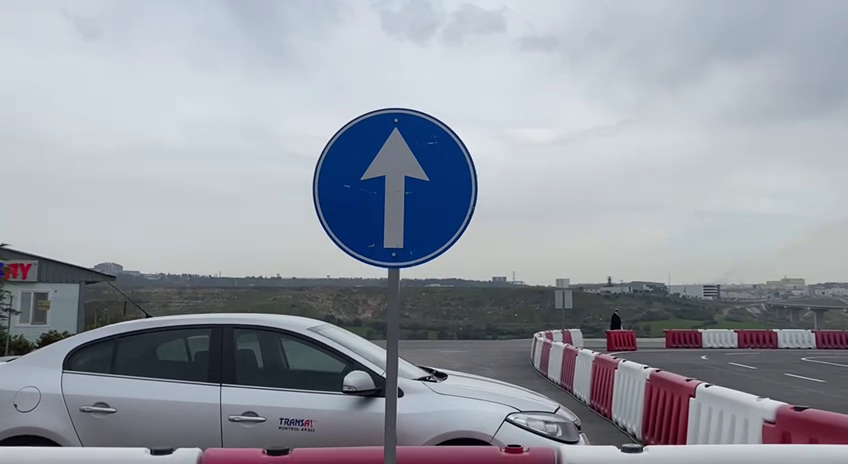forward: (309, 104, 484, 273)
